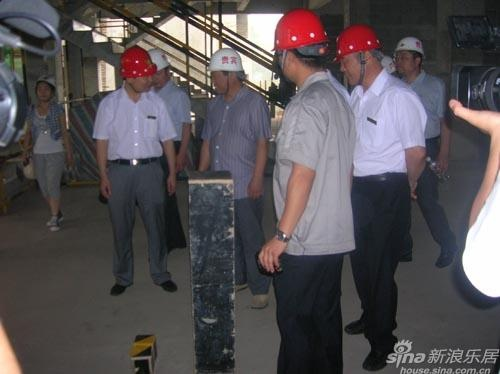red: (269, 9, 332, 83), (335, 22, 385, 86), (116, 45, 155, 92)
white: (206, 46, 245, 94), (390, 33, 428, 76), (146, 47, 171, 85), (32, 74, 57, 101)
